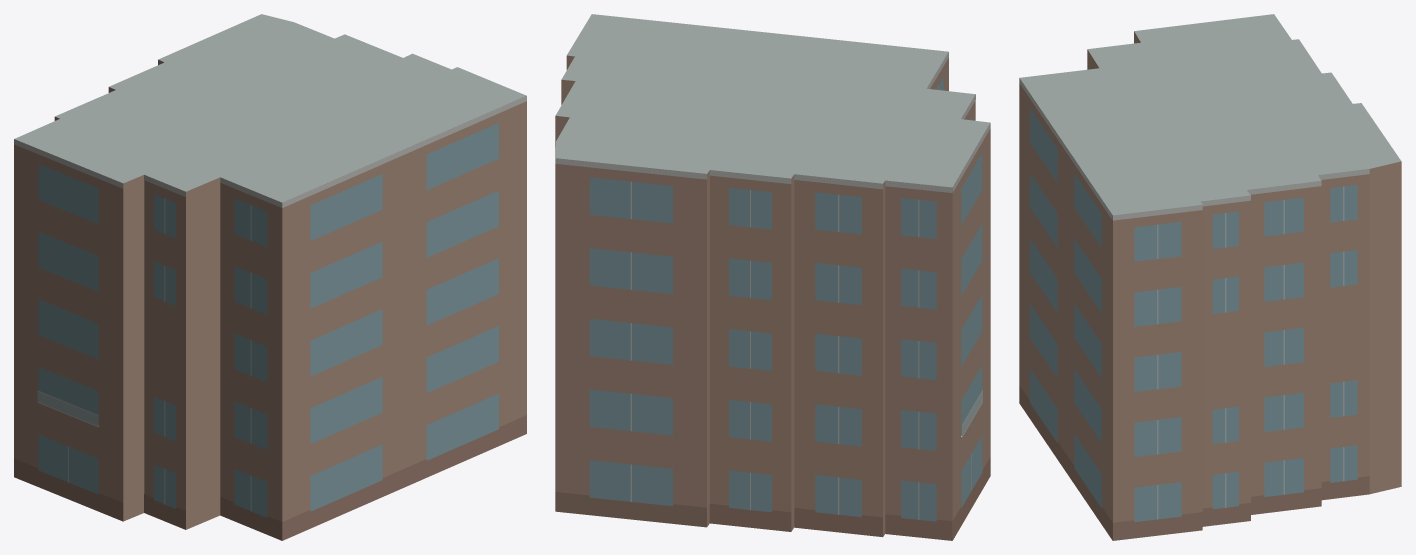
The model's file is survey-upis-32681766.glb.
The picture shows the model from 3 angles, left to right: view 1: azimuth 30°, elevation 25°; view 2: azimuth 150°, elevation 25°; view 3: azimuth 270°, elevation 25°; orthographic projection. The views are drawn at different scales.
Visible parts, largest first — view 1: survey-upis-32681766.tmp; view 2: survey-upis-32681766.tmp; view 3: survey-upis-32681766.tmp.
Boxes of the visible parts, x1,y1,x2,y2 form: survey-upis-32681766.tmp: [14, 14, 526, 540]; survey-upis-32681766.tmp: [555, 14, 990, 540]; survey-upis-32681766.tmp: [1019, 14, 1401, 540].
Size of the model in its own units: 20.25 by 15.25 by 16.24.
